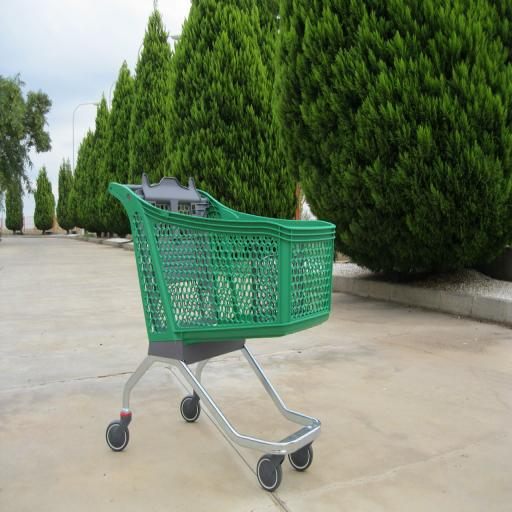shopping_cart: (106, 176, 337, 496)
